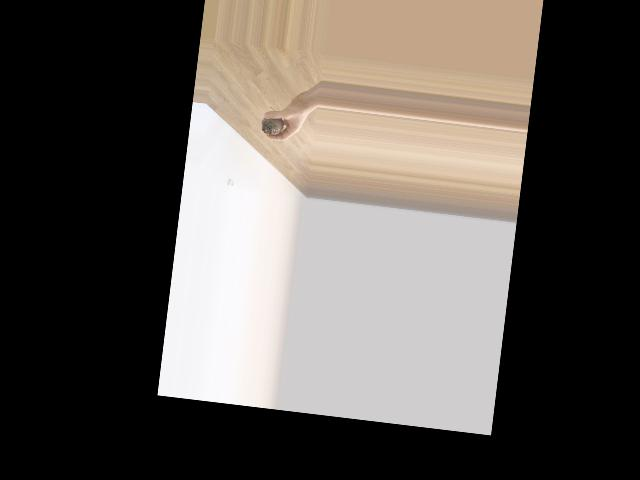beet: (259, 106, 285, 137)
